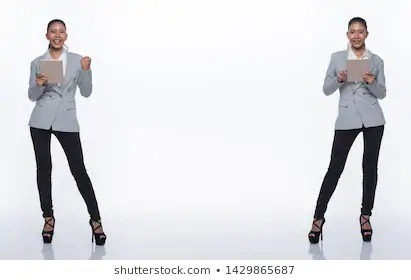S_W_pants: (27, 118, 103, 223), (312, 119, 387, 223)
